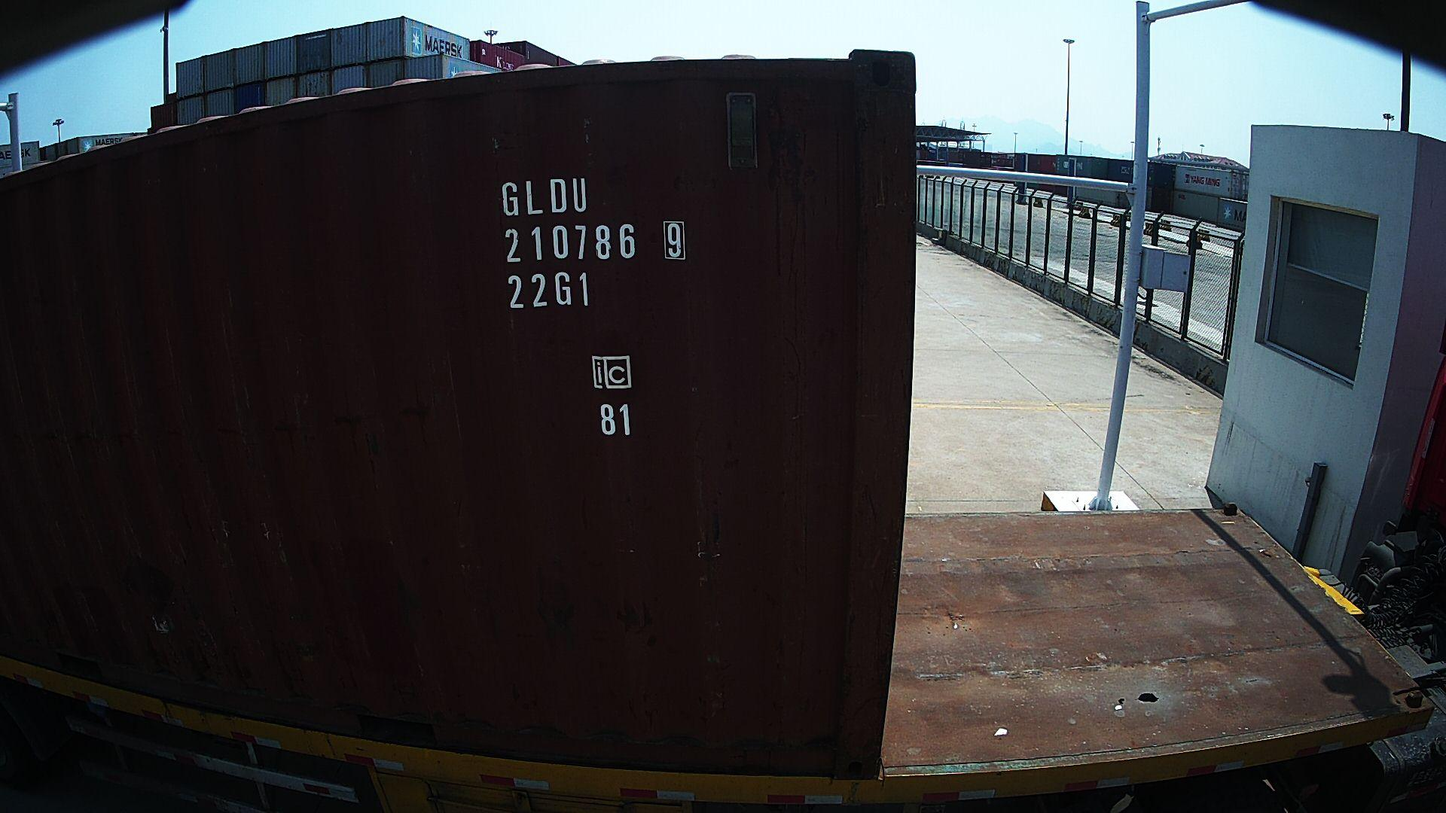container-numbers: (502, 219, 689, 266), (498, 175, 589, 218), (505, 269, 594, 312)
